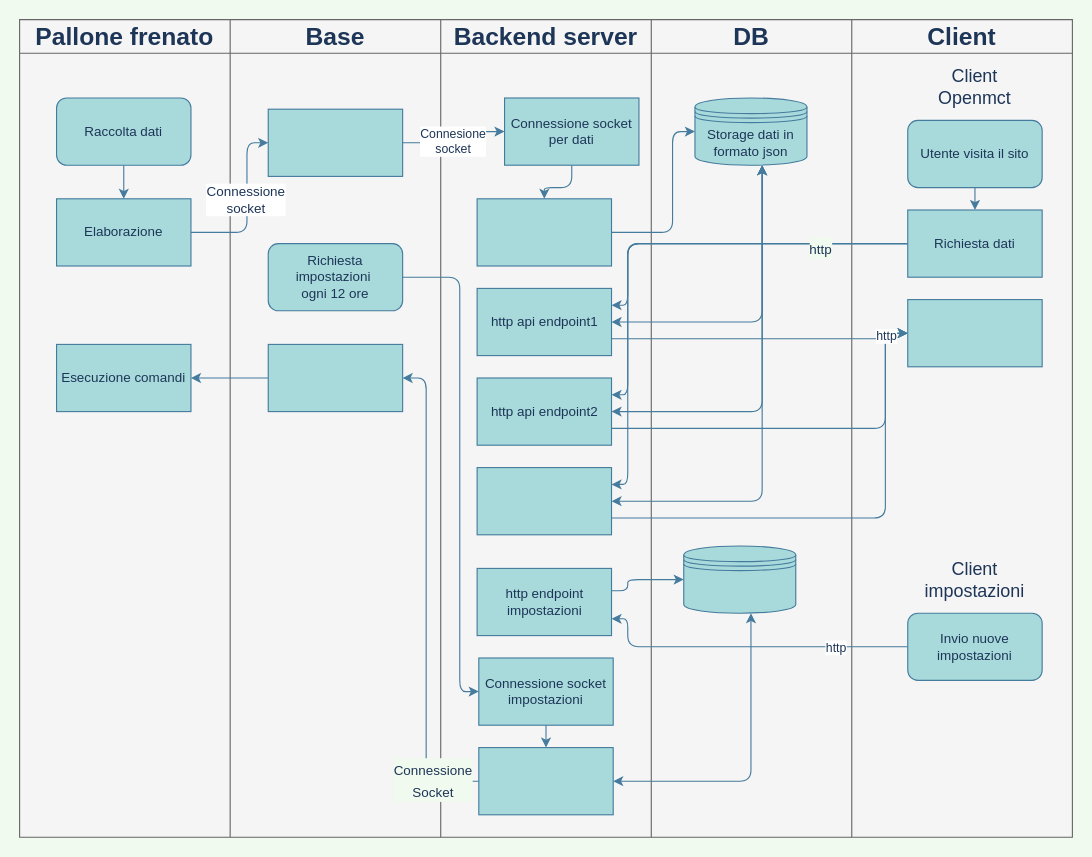
Some shapes in this 1092 by 857 pixel diagram are drawn without their labels. Each missing label, with the centre of its shape:
Creazione grafici: pixel 974 332
Elaborazione impostazioni corrette: pixel 545 780
Elaborazione in json: pixel 544 232
http api endpoint3: pixel 544 500
Lettura impostazioni: pixel 335 377
Raccolta dati e invio al server: pixel 335 142
Storage impostazioni: pixel 739 579
